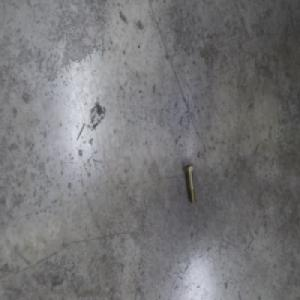Bolt: (184, 160, 197, 202)
